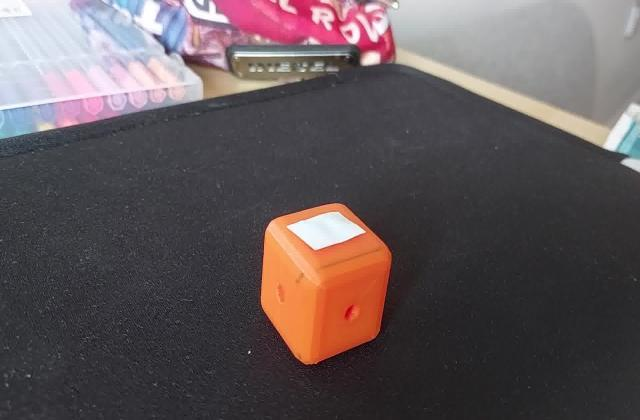cube: (257, 195, 397, 366)
white: (290, 216, 358, 257)
